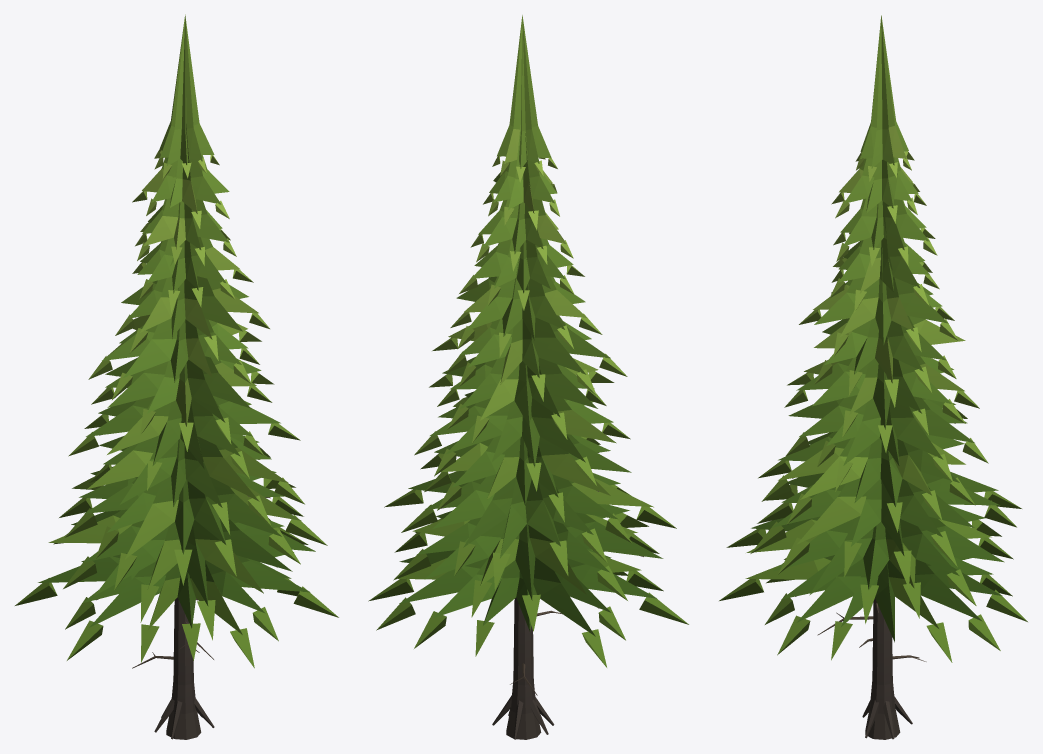
File: Larch_B.fbx
3 views of the same model, side by side, from view 1: azimuth 30°, elevation 25°; view 2: azimuth 150°, elevation 25°; view 3: azimuth 270°, elevation 25° (orthographic).
Visible parts, largest first — view 1: Larch_B_LOD0; view 2: Larch_B_LOD0; view 3: Larch_B_LOD0.
Part boxes in pixels (<box>): Larch_B_LOD0: <box>15,14,338,739</box>; Larch_B_LOD0: <box>368,15,688,739</box>; Larch_B_LOD0: <box>719,15,1027,739</box>.
Size of what is drawn, in the model's own units: 7.62 by 19.5 by 7.63.
Materials: 1 (1 with a texture image).
